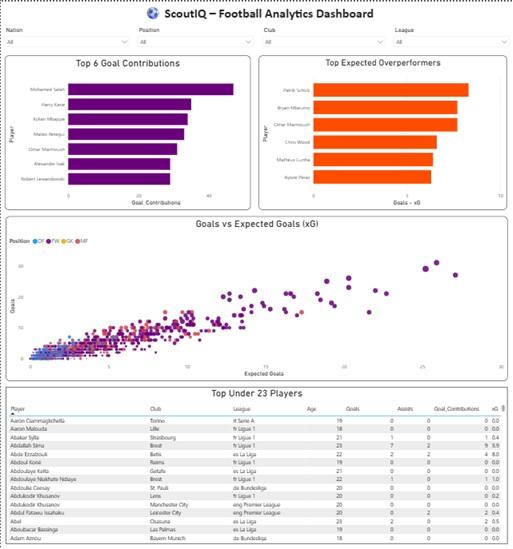

The dashboard page shown, as its layout file describes it:
{"tool":"powerbi","page":{"name":"👤 Players","canvas":[1280,1370],"ordinal":1},"visuals":[{"type":"textbox","box":[9.6,0,1270.7,56.3],"z":0},{"type":"clusteredBarChart","title":"Top 6 Goal Contributions","fields":{"Category":["Players.Player"],"Y":["Sum(Players.Goal_Contributions)"]},"box":[10,134,614,386],"z":1000},{"type":"scatterChart","title":"Goals vs Expected Goals (xG)","fields":{"X":["Sum(Players.xG)"],"Y":["Sum(Players.Goals)"],"Series":["Players.Position"],"Size":["Sum(Players.Goal_Contributions)"],"Category":["Players.Player"]},"box":[12,538,1254,412],"z":2000},{"type":"clusteredBarChart","title":"Top Expected Overperformers","fields":{"Category":["Players.Player"],"Y":["Players.xG Overperformance"]},"box":[646,134,620,386],"z":3000},{"type":"tableEx","title":"Top Under 23 Players","fields":{"Values":["Players.Player","Players.Club","Players.League","Sum(Players.Age)","Sum(Players.Goals)","Sum(Players.Assists)","Sum(Players.Goal_Contributions)","Sum(Players.xG)"]},"box":[12,966,1254,392],"z":4000},{"type":"slicer","fields":{"Values":["Players.Nation"]},"box":[0,58.6,331.4,60],"z":5000},{"type":"slicer","fields":{"Values":["Players.League"]},"box":[971.4,58.6,308.6,60],"z":6000},{"type":"slicer","fields":{"Values":["Players.Club"]},"box":[645.7,58.6,325.7,60],"z":7000},{"type":"slicer","fields":{"Values":["Players.Position"]},"box":[331.4,58.6,308.6,60],"z":8000}]}

Visuals, with their boxes in screenshot pixels (x1, y1, x2, y2), scaled from the page's 1280x1370 canvas onto the 513x549 screenshot:
textbox: [left=4, top=0, right=512, bottom=23]
"Top 6 Goal Contributions" clusteredBarChart: [left=4, top=54, right=250, bottom=208]
"Goals vs Expected Goals (xG)" scatterChart: [left=5, top=216, right=507, bottom=381]
"Top Expected Overperformers" clusteredBarChart: [left=259, top=54, right=507, bottom=208]
"Top Under 23 Players" tableEx: [left=5, top=387, right=507, bottom=544]
slicer - Players.Nation: [left=0, top=23, right=133, bottom=48]
slicer - Players.League: [left=389, top=23, right=512, bottom=48]
slicer - Players.Club: [left=259, top=23, right=389, bottom=48]
slicer - Players.Position: [left=133, top=23, right=256, bottom=48]
